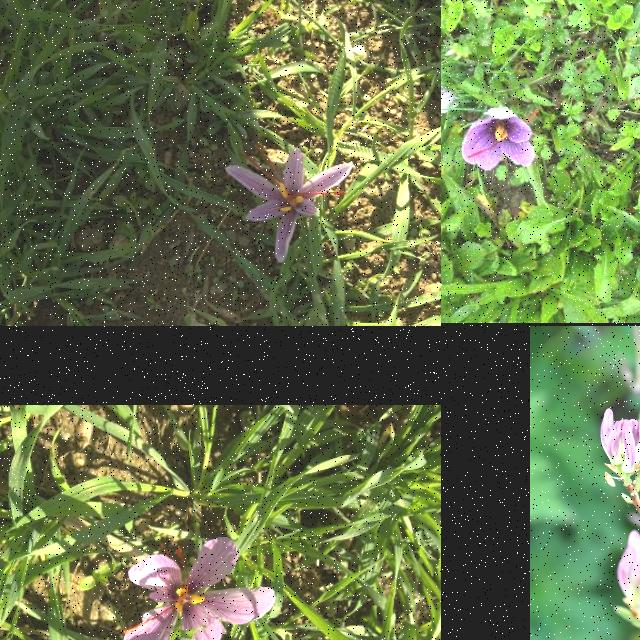flower: (122, 538, 276, 640), (224, 148, 352, 264), (462, 107, 536, 169)
